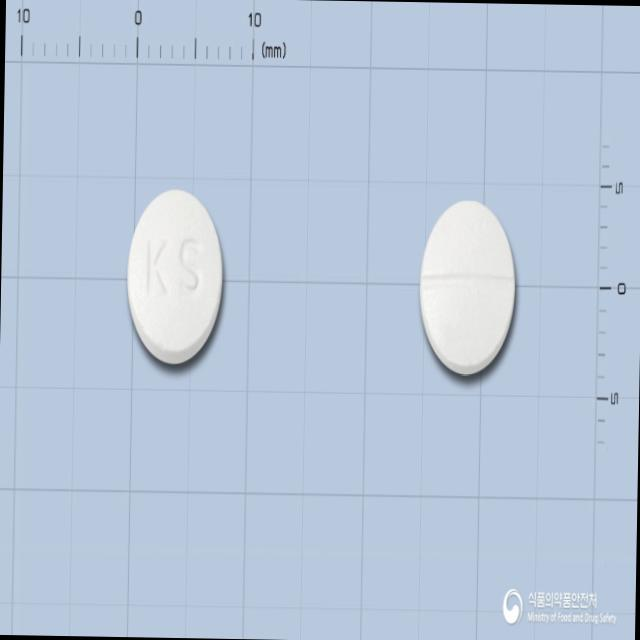Levofroxin: (126, 188, 225, 368)
